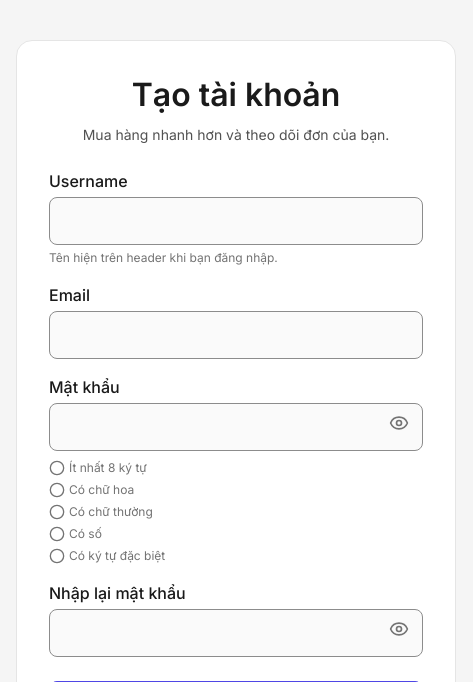
RegisterPage › submit_showsUsernameError_whenPreSignUpRejectsTaken
This screenshot has width=473, height=682.
Type "an_nguyen" into the field labelled "Username".
click(236, 221); type("an_nguyen")  # box [49,197,423,245]
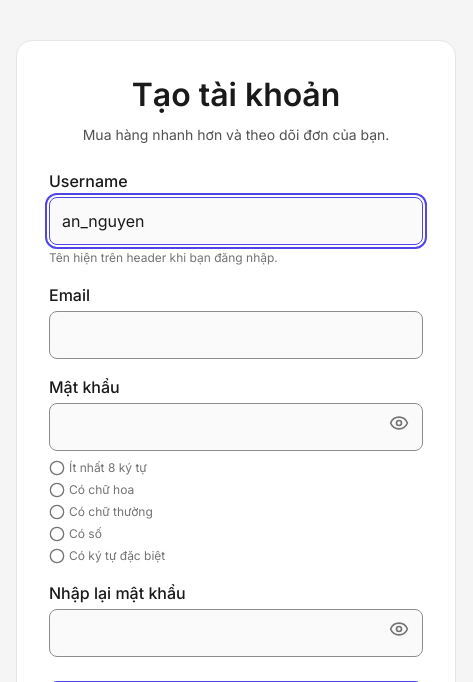
Type "an@example.com" into the field labelled "Email".
click(236, 335); type("an@example.com")  # box [49,311,423,359]
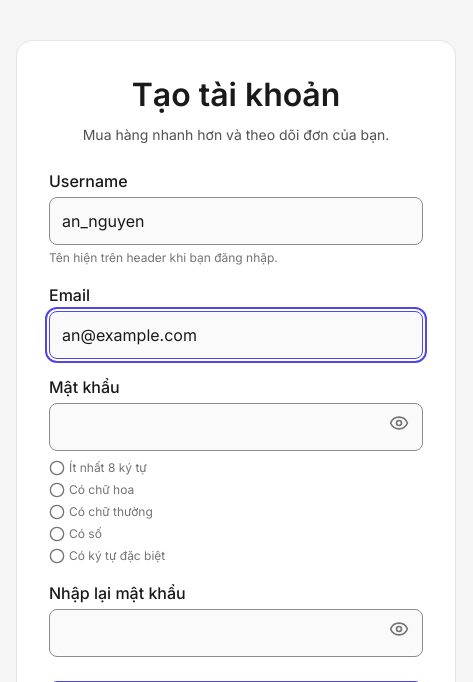
Type "Abcdef1!" into the password field labelled "Mật khẩu".
click(236, 427); type("Abcdef1!")  # box [49,403,423,451]
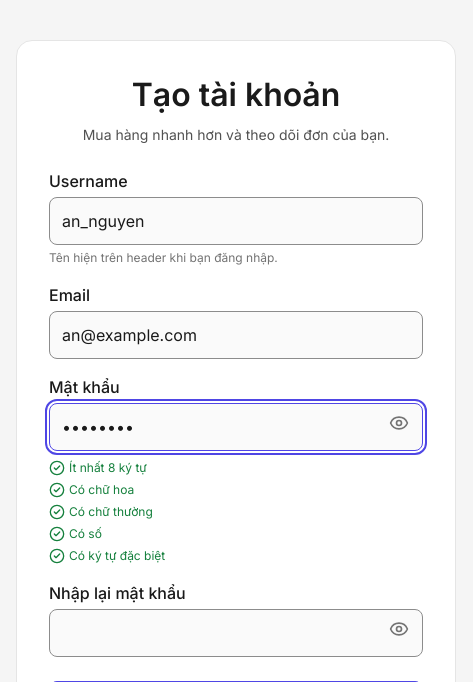
Type "Abcdef1!" into the password field labelled "Nhập lại mật khẩu".
click(236, 633); type("Abcdef1!")  # box [49,609,423,657]
(page scrolled)
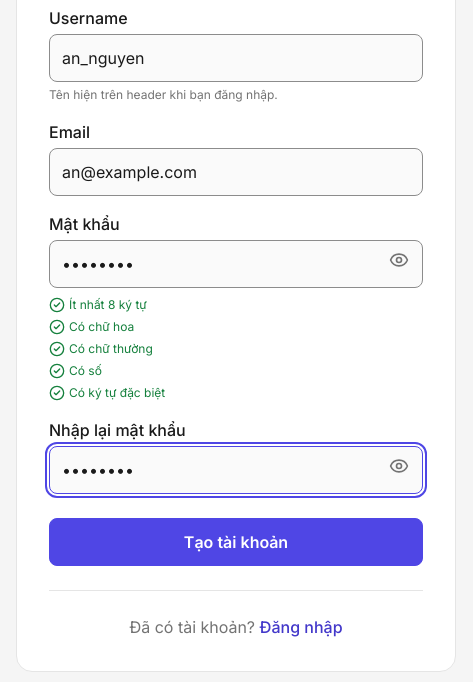
Click the button "Tạo tài khoản".
click(236, 542)  # box [49,518,423,566]
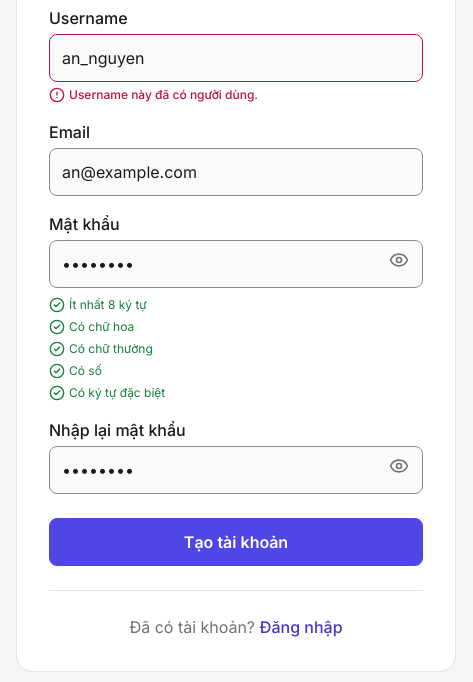
Result: the text "Username này đã có người dùng." is shown at [49,87,258,103]
